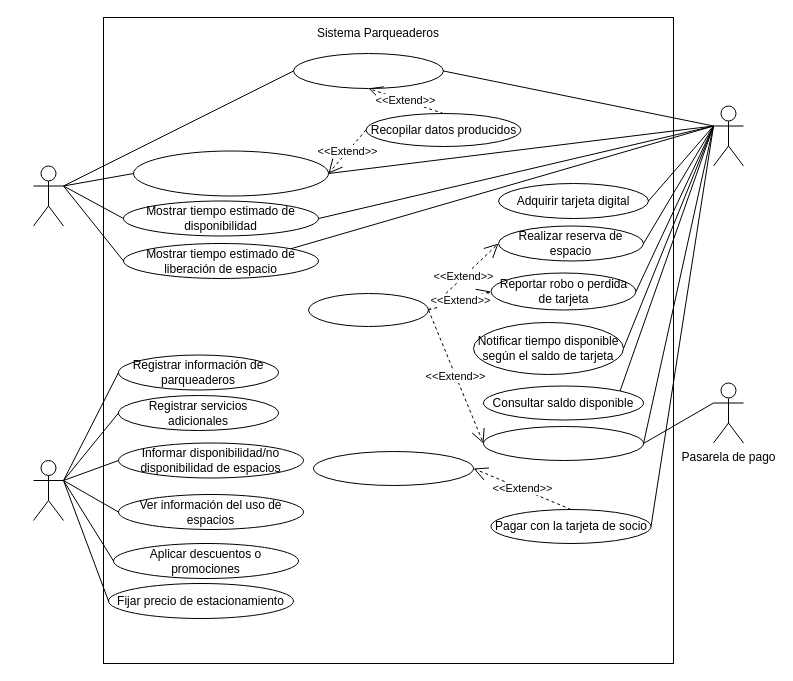
Some shapes in this 793 by 681 pixel diagram are drawn without their labels. Here are the shapes that lost their labels. From the top down, the centre of each, then its label:
At (x=368, y=70): "Acceder a ubicación".
At (x=728, y=135): "Conductor socio".
At (x=230, y=173): "Visualizar parqueaderos disponibles y espacios de estacionamiento".
At (x=48, y=195): "Conductor".
At (x=368, y=309): "Registrar acciones realizadas".
At (x=563, y=443): "Realizar recarga de saldo".
At (x=393, y=468): "Calcular valor a pagar".
At (x=48, y=490): "Gestor Parquedero".
